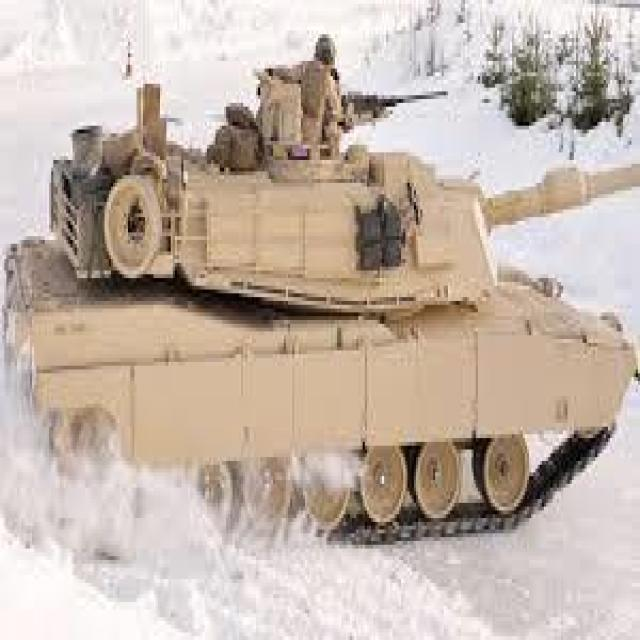MIL_MBT: (14, 80, 624, 541)
